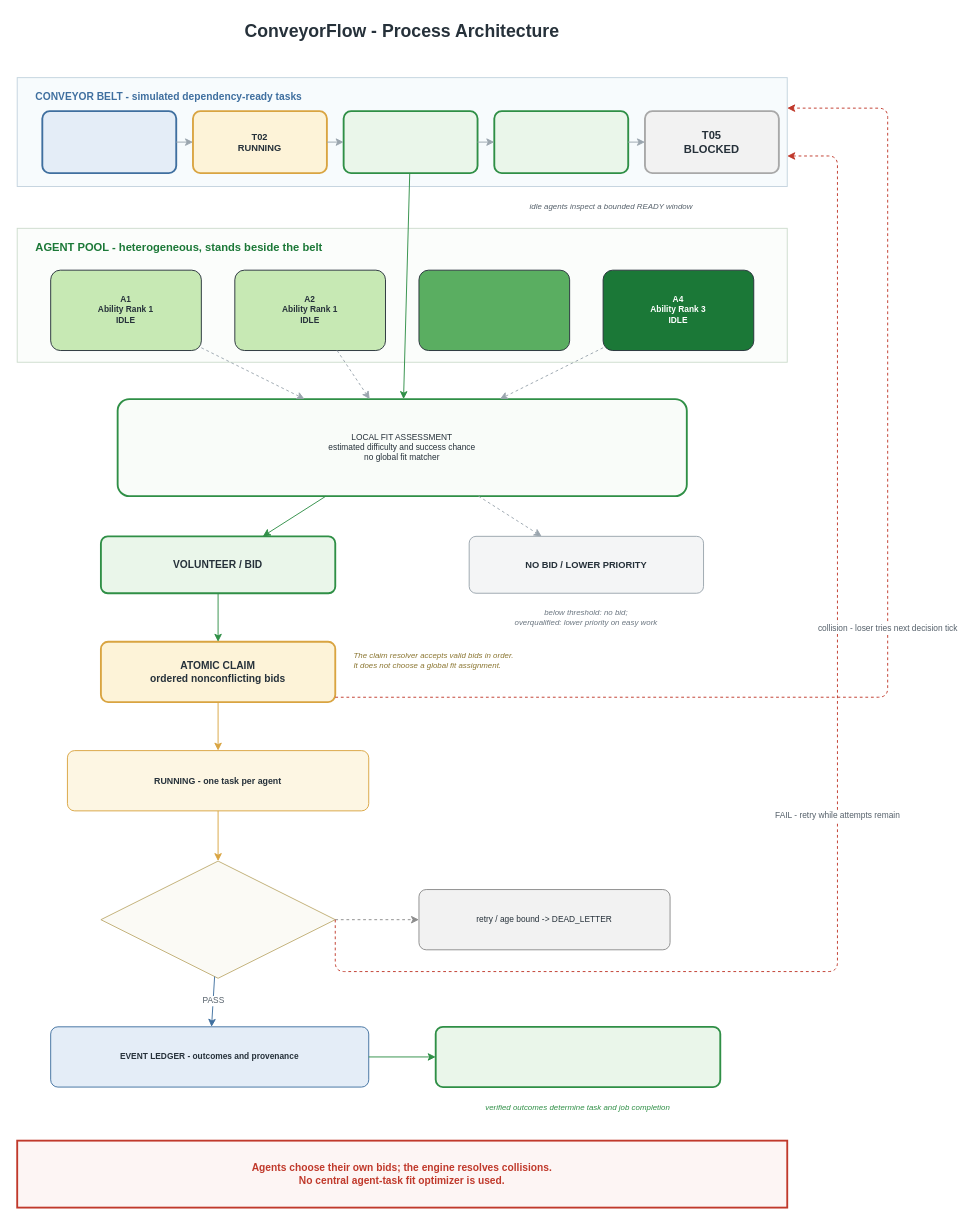
Some shapes in this 973 by 1225 pixel diagram are drawn without their labels. Here are the shapes that lost their labels. From the top down, the centre of each, then its label:
At [109,142]: "T01 VERIFIED".
At [410,142]: "T03 READY".
At [561,142]: "T04 READY".
At [494,310]: "A3 Ability Rank 2 BUSY".
At [217,919]: "VERIFY OUTCOME".
At [577,1056]: "all tasks VERIFIED -> JOB VERIFIED".
